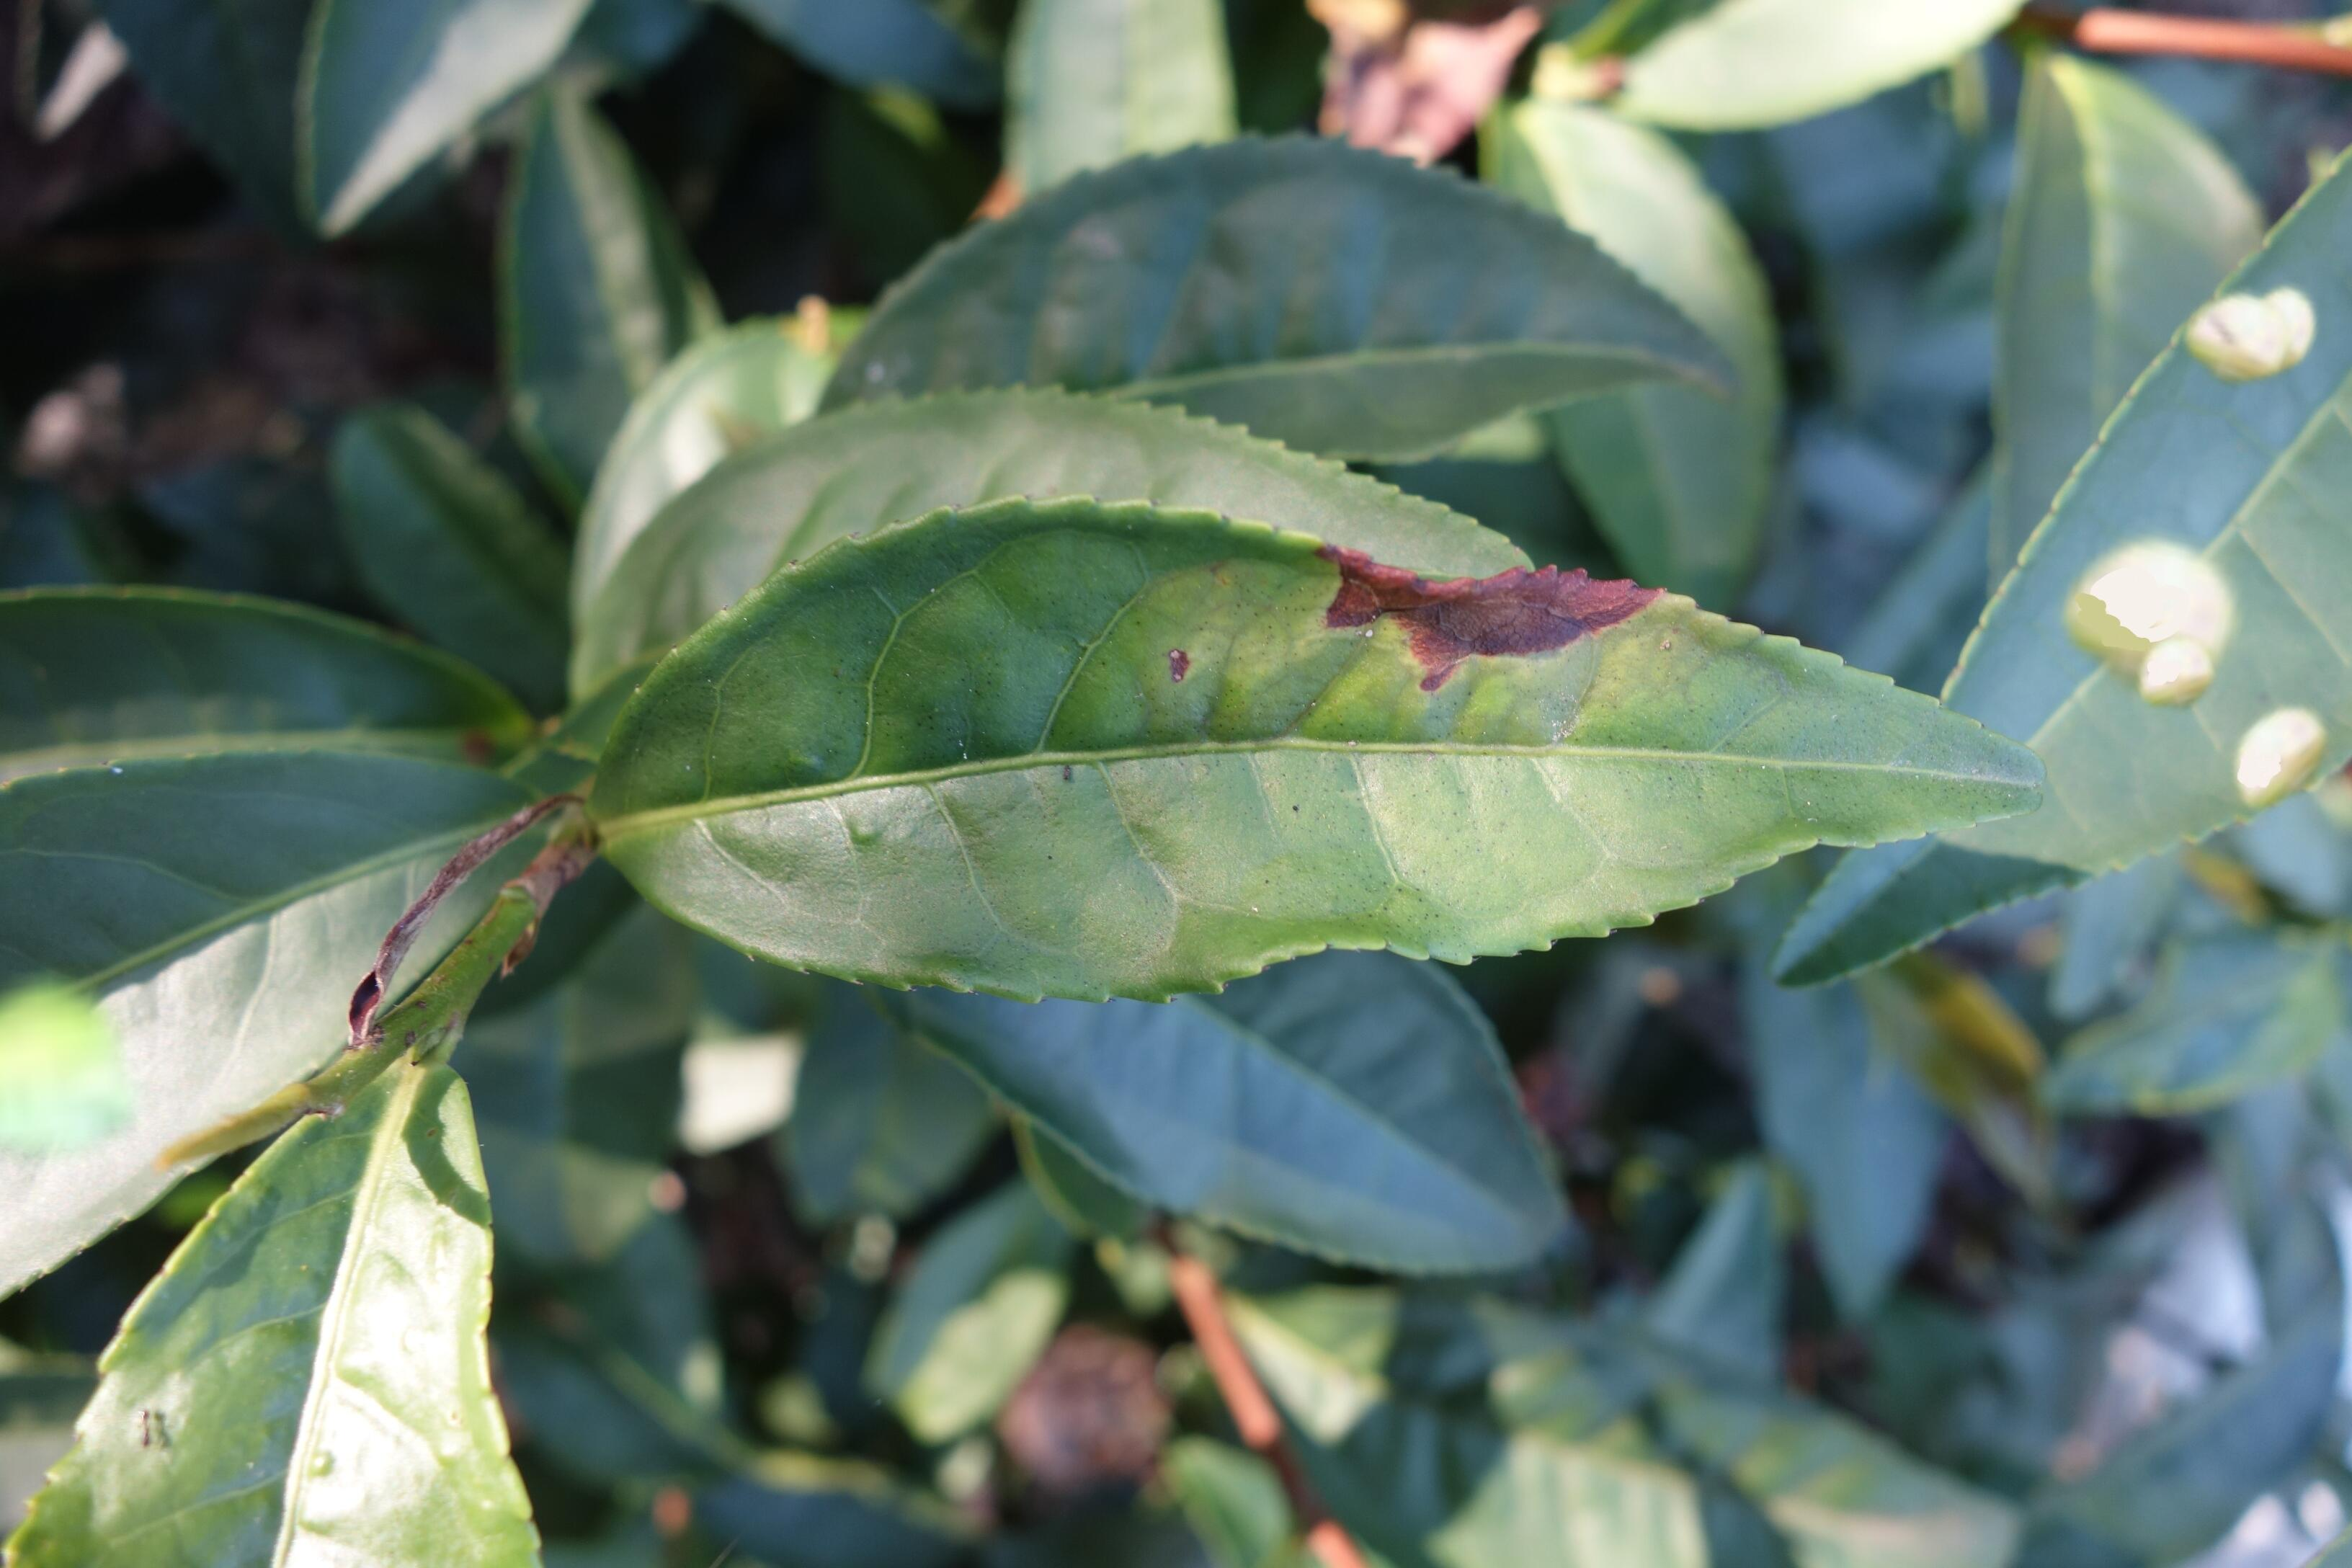chabing_high: (1774, 143, 2348, 1001)
tanju_high: (584, 492, 2047, 1017)
